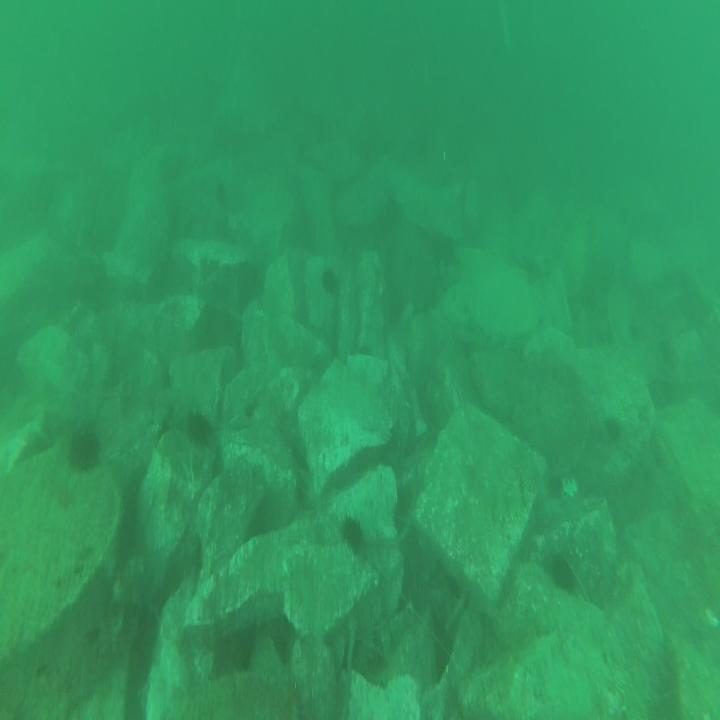echinus: (66, 422, 105, 476), (547, 547, 582, 597), (338, 507, 368, 559), (184, 408, 214, 448), (318, 262, 340, 299), (606, 408, 622, 448)
